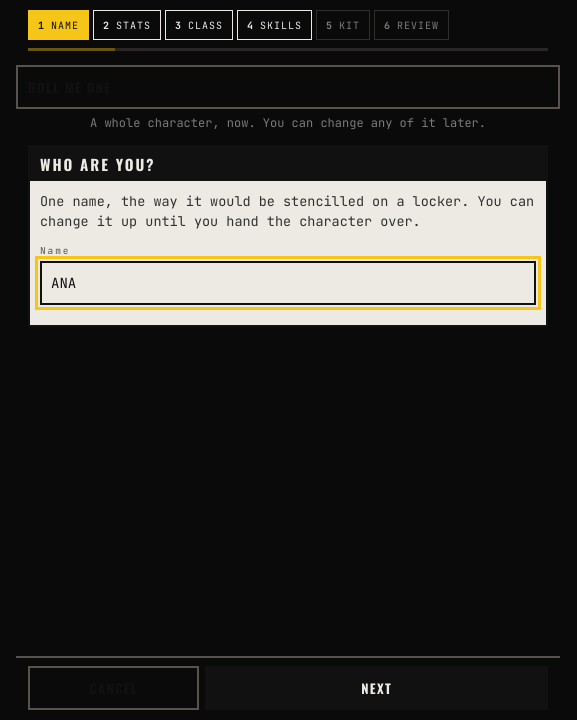
Test: building a character on a phone › offers real skills to spend points on
Click the button "Next".
click(377, 688)  # box [205,666,548,710]
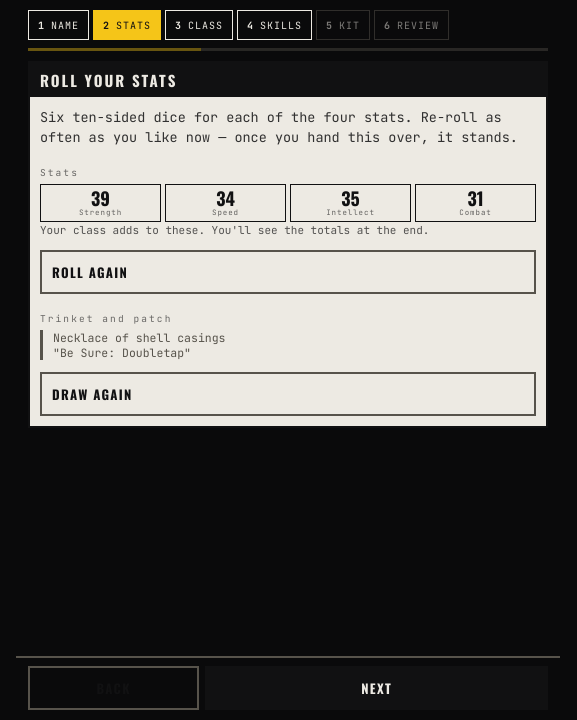
Click the button "Next".
click(377, 688)  # box [205,666,548,710]
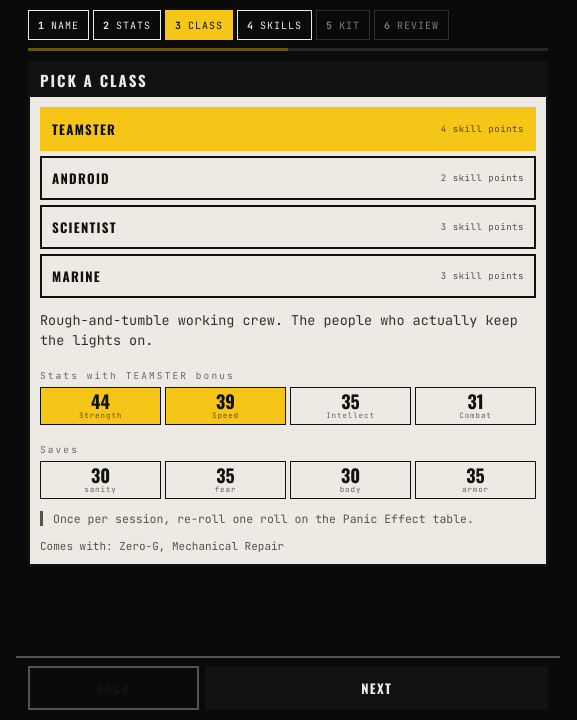
Click the button "Next".
click(377, 688)  # box [205,666,548,710]
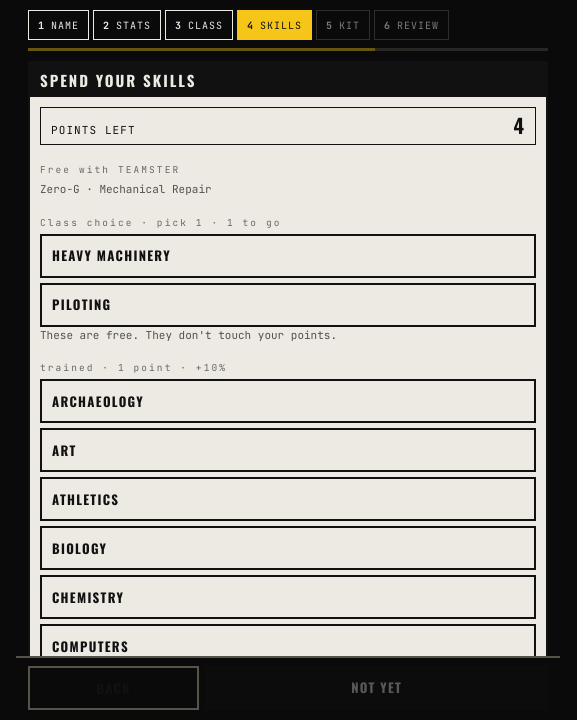
Expected: the text "trained · 1 point · +10%" is shown, [40,361,227,374]
